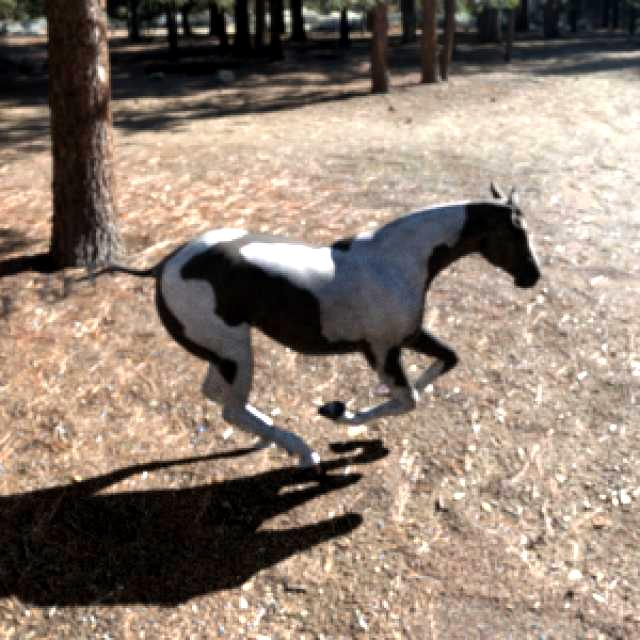horse: (81, 188, 540, 472)
